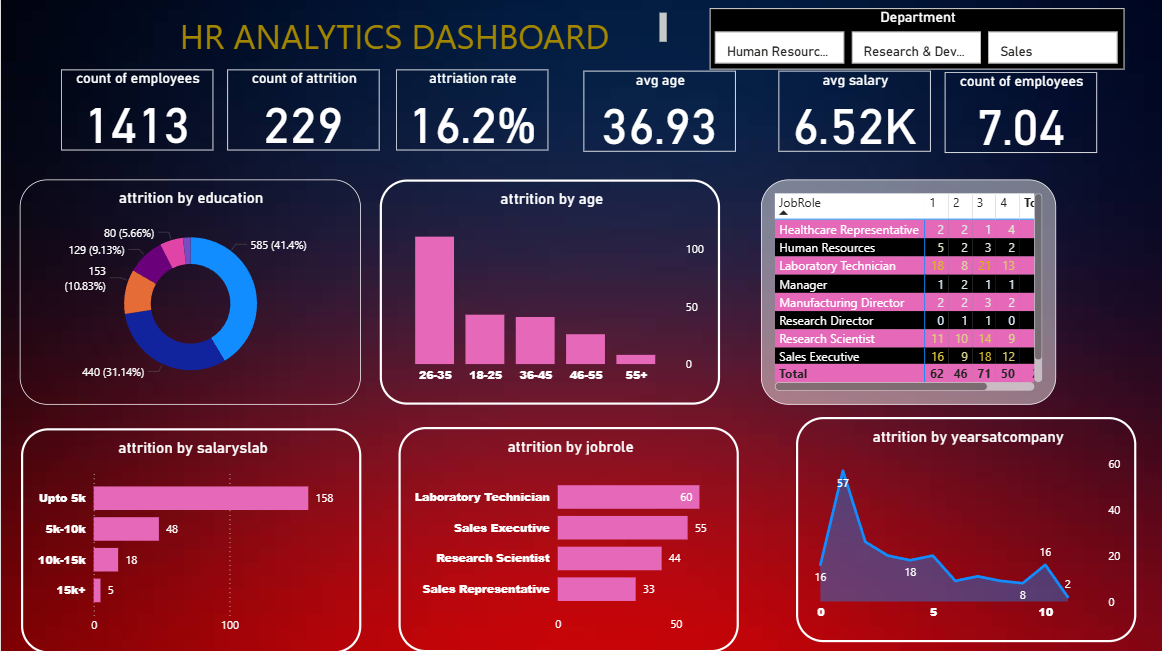

The dashboard page shown, as its layout file describes it:
{"tool":"powerbi","page":{"name":"Page 1","canvas":[1280,720],"ordinal":0},"visuals":[{"type":"card","title":"count of employees","fields":{"Values":["Sum(HR_Analytics.EmployeeCount)"]},"box":[65.9,79.6,167.4,89.2],"z":0},{"type":"card","title":"count of  attrition","fields":{"Values":["Sum(HR_Analytics.attritioncount)"]},"box":[248.4,79.6,167.4,89.2],"z":1000},{"type":"card","title":"attriation rate","fields":{"Values":["HR_Analytics.AttritionRate Formatted"]},"box":[433.6,79.6,167.4,89.2],"z":2000},{"type":"card","title":"avg age","fields":{"Values":["Avg(HR_Analytics.Age)"]},"box":[639.5,81,167.4,89.2],"z":3000},{"type":"card","title":"avg salary","fields":{"Values":["Avg(HR_Analytics.MonthlyIncome)"]},"box":[853.5,81,167.4,89.2],"z":4000},{"type":"card","title":"count of employees","fields":{"Values":["Avg(HR_Analytics.YearsAtCompany)"]},"box":[1036,82.3,167.4,89.2],"z":5000},{"type":"donutChart","title":"attrition by education","fields":{"Y":["CountNonNull(HR_Analytics.Attrition)"],"Category":["HR_Analytics.EducationField"]},"box":[20.6,200.3,374.6,247],"z":6000},{"type":"columnChart","title":"attrition by age","fields":{"Category":["HR_Analytics.AgeGroup"],"Y":["Sum(HR_Analytics.attritioncount)"]},"box":[415.8,200.3,373.2,247],"z":7000},{"type":"pivotTable","fields":{"Rows":["HR_Analytics.JobRole"],"Columns":["HR_Analytics.JobSatisfaction"],"Values":["Sum(HR_Analytics.attritioncount)"]},"box":[834.3,200.3,323.8,247],"z":8000},{"type":"barChart","title":"attrition by salaryslab","fields":{"Category":["HR_Analytics.SalarySlab"],"Y":["Sum(HR_Analytics.attritioncount)"]},"box":[22,473.4,373.2,247],"z":8001},{"type":"areaChart","title":"attrition by  yearsatcompany","fields":{"Category":["HR_Analytics.YearsAtCompany"],"Y":["Sum(HR_Analytics.attritioncount)"]},"box":[872.7,461.1,373.2,247],"z":8002},{"type":"barChart","title":"attrition by jobrole","fields":{"Y":["Sum(HR_Analytics.attritioncount)"],"Category":["HR_Analytics.JobRole"]},"box":[436.9,471.9,373.2,247],"z":8003},{"type":"advancedSlicerVisual","fields":{"Values":["HR_Analytics.Department"]},"box":[778,12.3,455.6,67.2],"z":8004},{"type":"textbox","box":[137.2,12.3,598.3,56.3],"z":8005}]}

Visuals, with their boxes in screenshot pixels (x1, y1, x2, y2), scaled from the page's 1280x720 canvas onto the 1162x651 screenshot:
"count of employees" card: x1=60, y1=72, x2=212, y2=153
"count of  attrition" card: x1=226, y1=72, x2=377, y2=153
"attriation rate" card: x1=394, y1=72, x2=546, y2=153
"avg age" card: x1=581, y1=73, x2=733, y2=154
"avg salary" card: x1=775, y1=73, x2=927, y2=154
"count of employees" card: x1=940, y1=74, x2=1092, y2=155
"attrition by education" donutChart: x1=19, y1=181, x2=359, y2=404
"attrition by age" columnChart: x1=377, y1=181, x2=716, y2=404
pivotTable - HR_Analytics.JobRole x HR_Analytics.JobSatisfaction: x1=757, y1=181, x2=1051, y2=404
"attrition by salaryslab" barChart: x1=20, y1=428, x2=359, y2=650
"attrition by  yearsatcompany" areaChart: x1=792, y1=417, x2=1131, y2=640
"attrition by jobrole" barChart: x1=397, y1=427, x2=735, y2=650
advancedSlicerVisual - HR_Analytics.Department: x1=706, y1=11, x2=1120, y2=72
textbox: x1=125, y1=11, x2=668, y2=62
